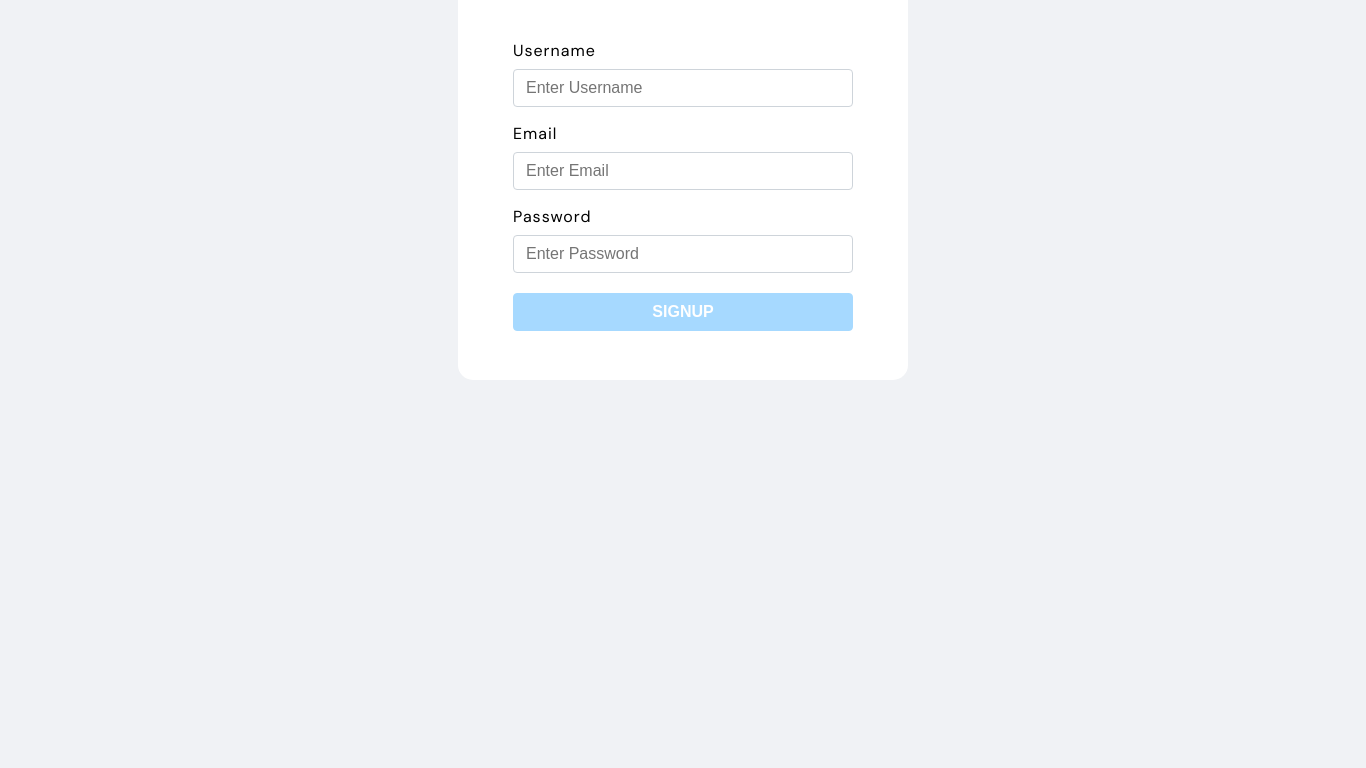
Test: Register › Button › should be enabled with input values
Step 1. Type "manny" into the field labelled "Username" → (683, 88), box [513,69,853,107]
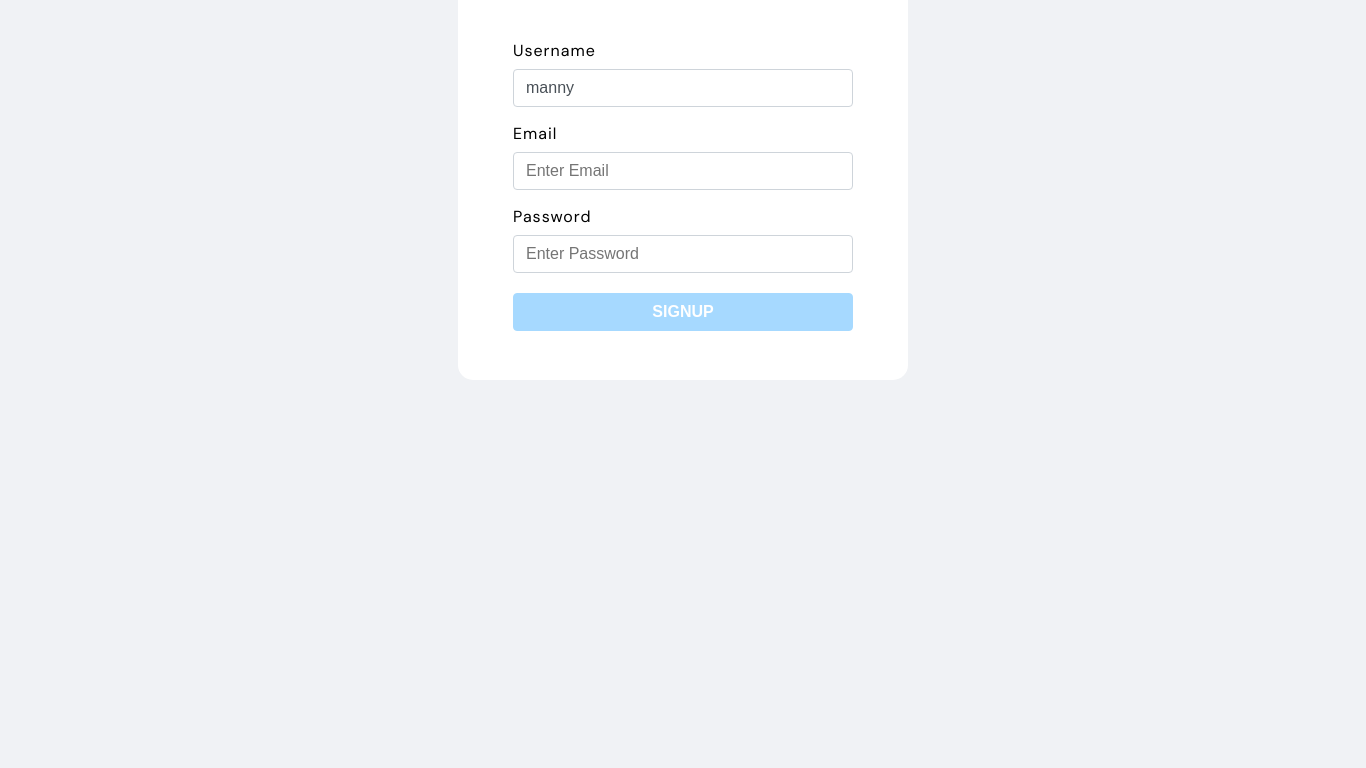
Step 2. Type "manny@test.com" into the field labelled "Email" → (683, 171), box [513,152,853,190]
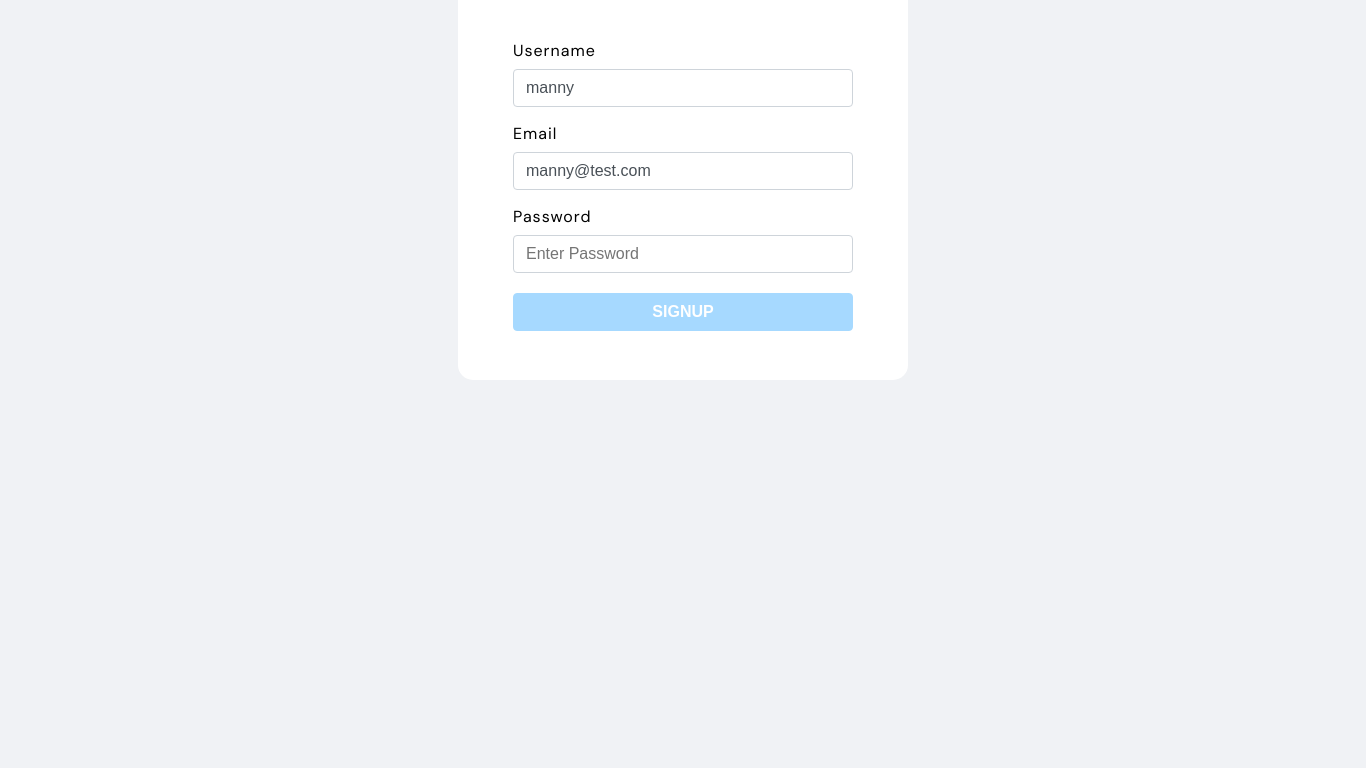
Step 3. Type "qwerty" into the password field labelled "Password" → (683, 254), box [513,235,853,273]
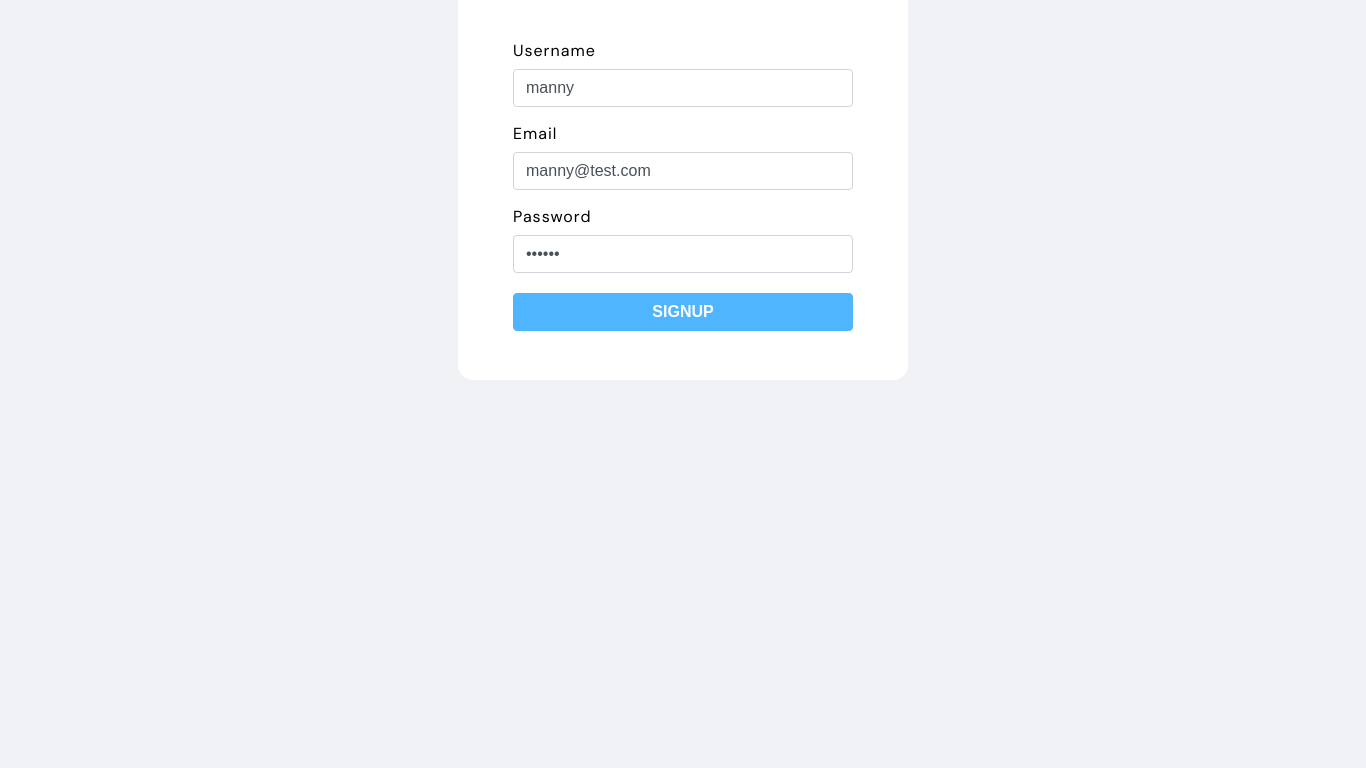
Now the button is enabled, box [513,293,853,331]
